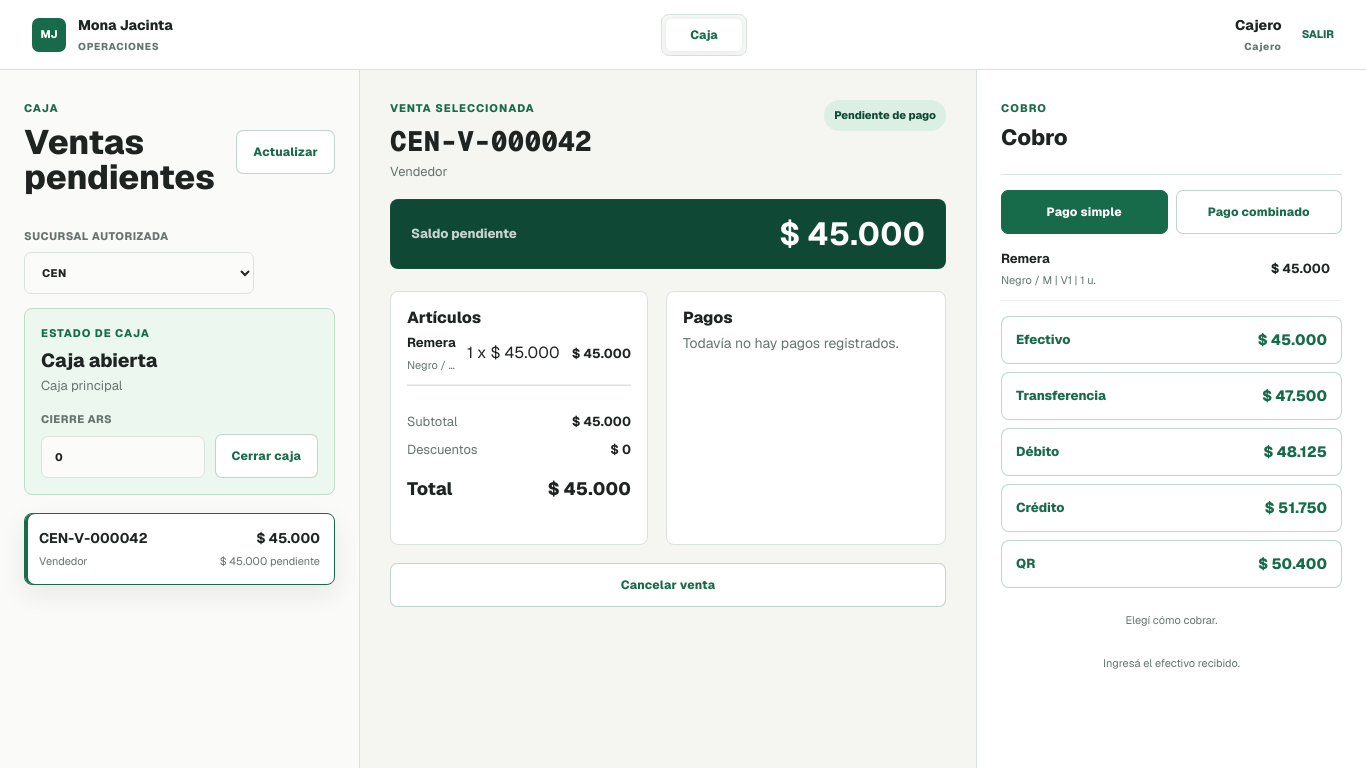
it: Caja — tipo de cobro › UI-QR-2 Pago simple + QR cotiza sin importes fijos, exige solo la referencia (sin institución ni recibido) y cobra con balanceMethod QR
This screenshot has width=1366, height=768.
Expected: the heading "Ventas pendientes" is shown, [24,124,236,196]
Expected: the heading "CEN-V-000042" is shown, [390,124,592,157]
Step 1. Click the button "QR $ 50.400" → [1293, 563], box [1001,540,1342,588]
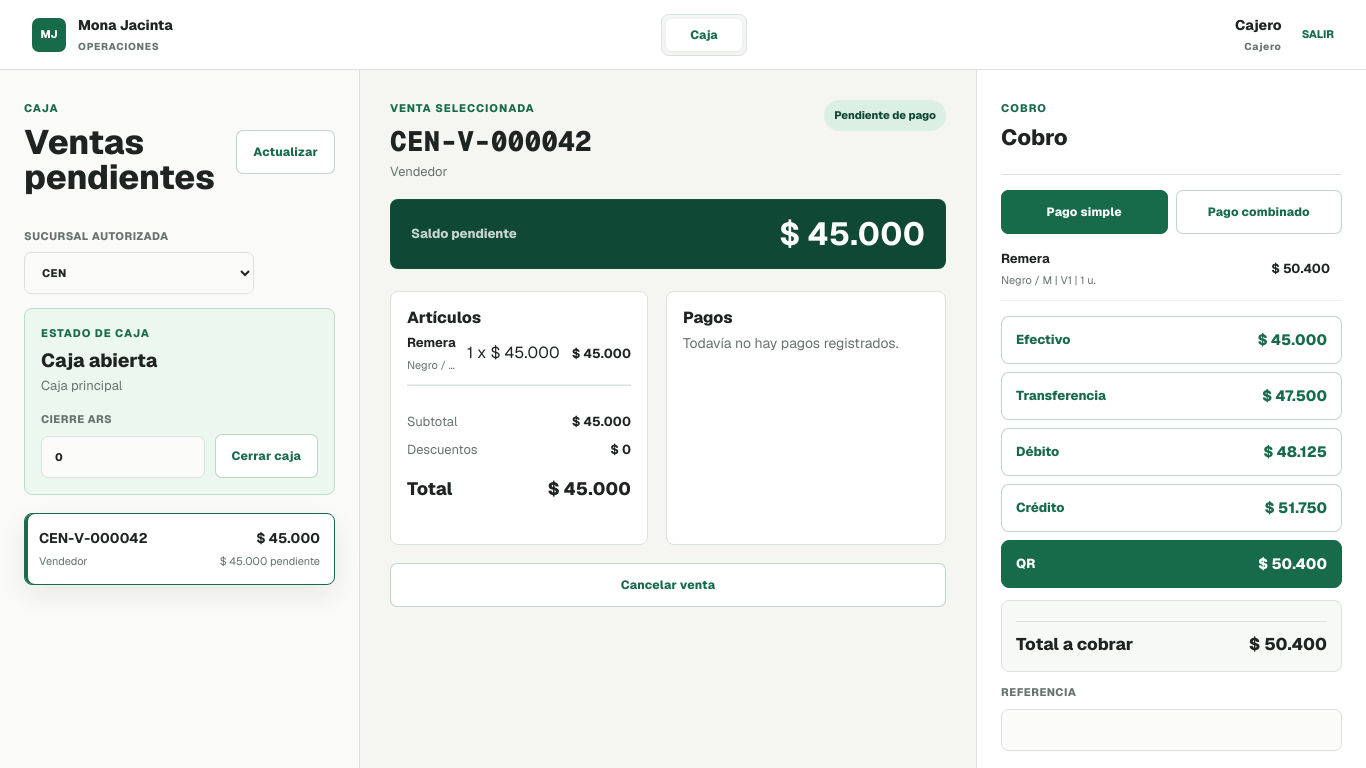
Now the text with test id "simple-total" shows "50.400", box [1249,633,1327,655]
Now the text labelled "recibido" is gone
Step 2. Type "QR0042" into the field labelled "Referencia" → [1172, 730], box [1001,709,1342,751]
(page scrolled)
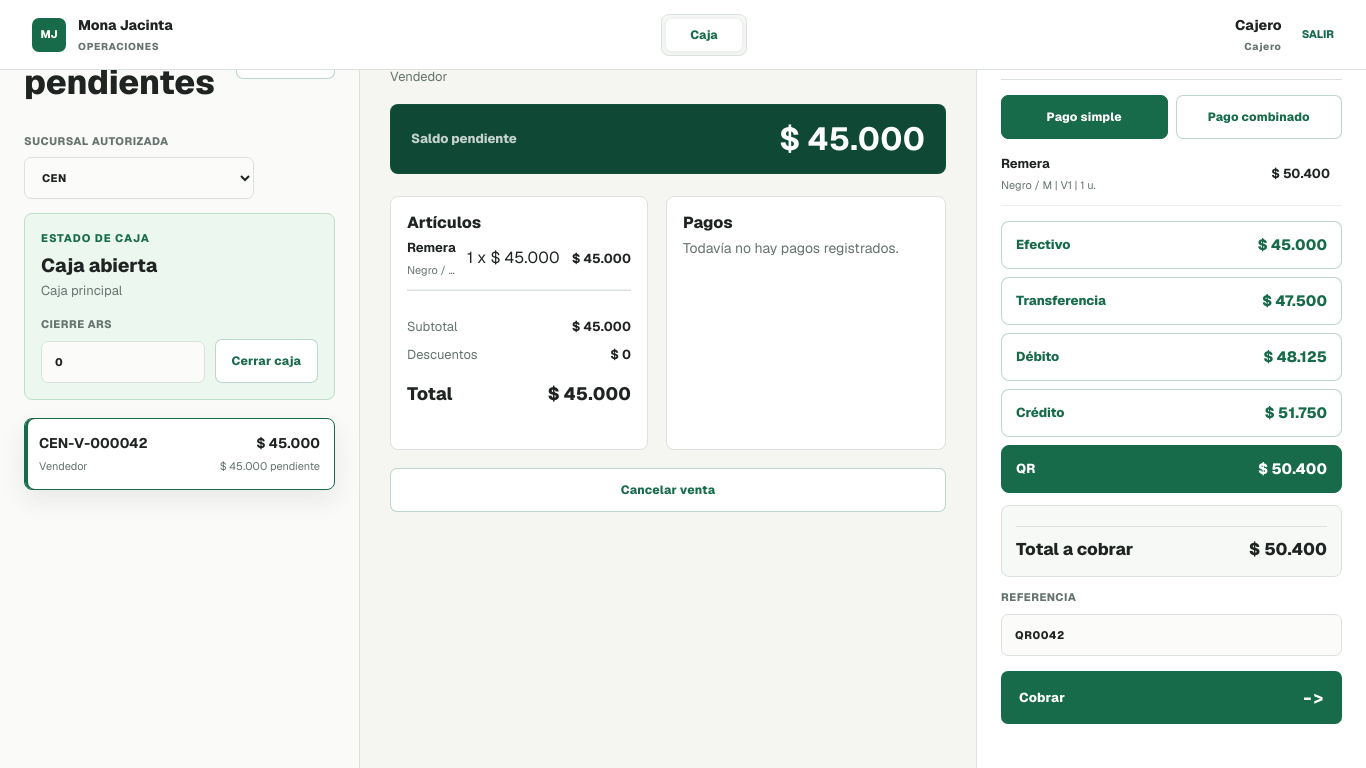
Now the button "Cobrar ->" is enabled
Step 3. Click the button "Cobrar ->" → [1042, 698], box [1001,671,1342,724]
(page scrolled)
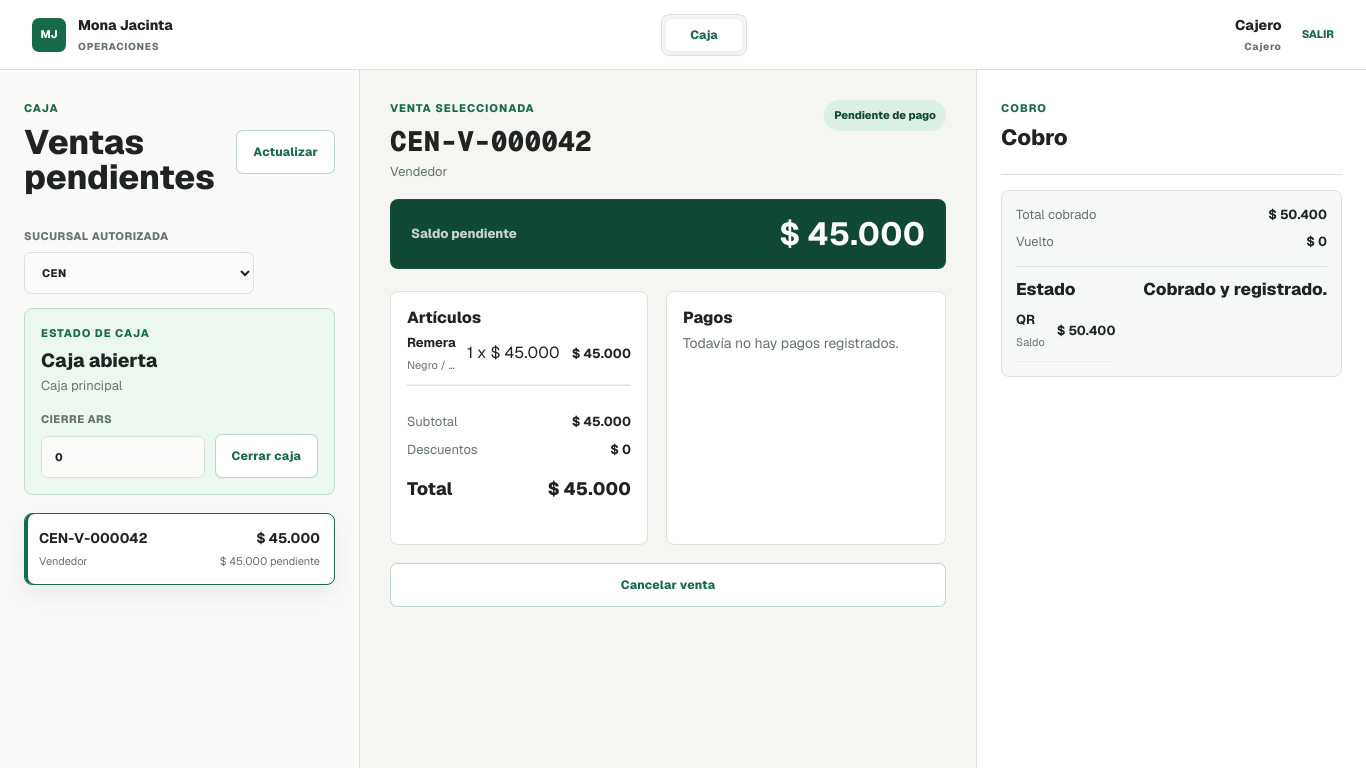
Now the element with test id "proportional-result" is shown, box [1001,190,1342,377]
